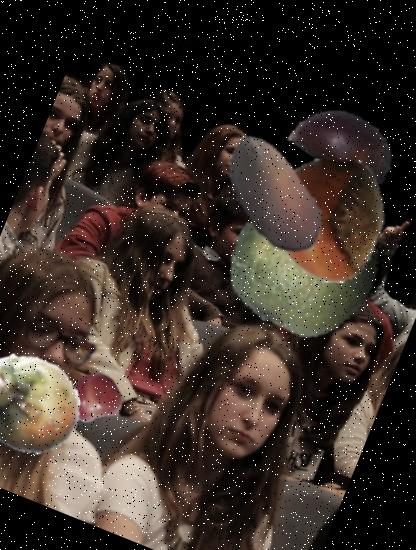Cactus: (0, 336, 94, 471)
Cherry: (61, 365, 127, 431)
Chestnut: (276, 74, 416, 213)
Hazelnut: (186, 110, 358, 282)
Limes: (212, 168, 403, 358)
Nut: (249, 140, 408, 300)
